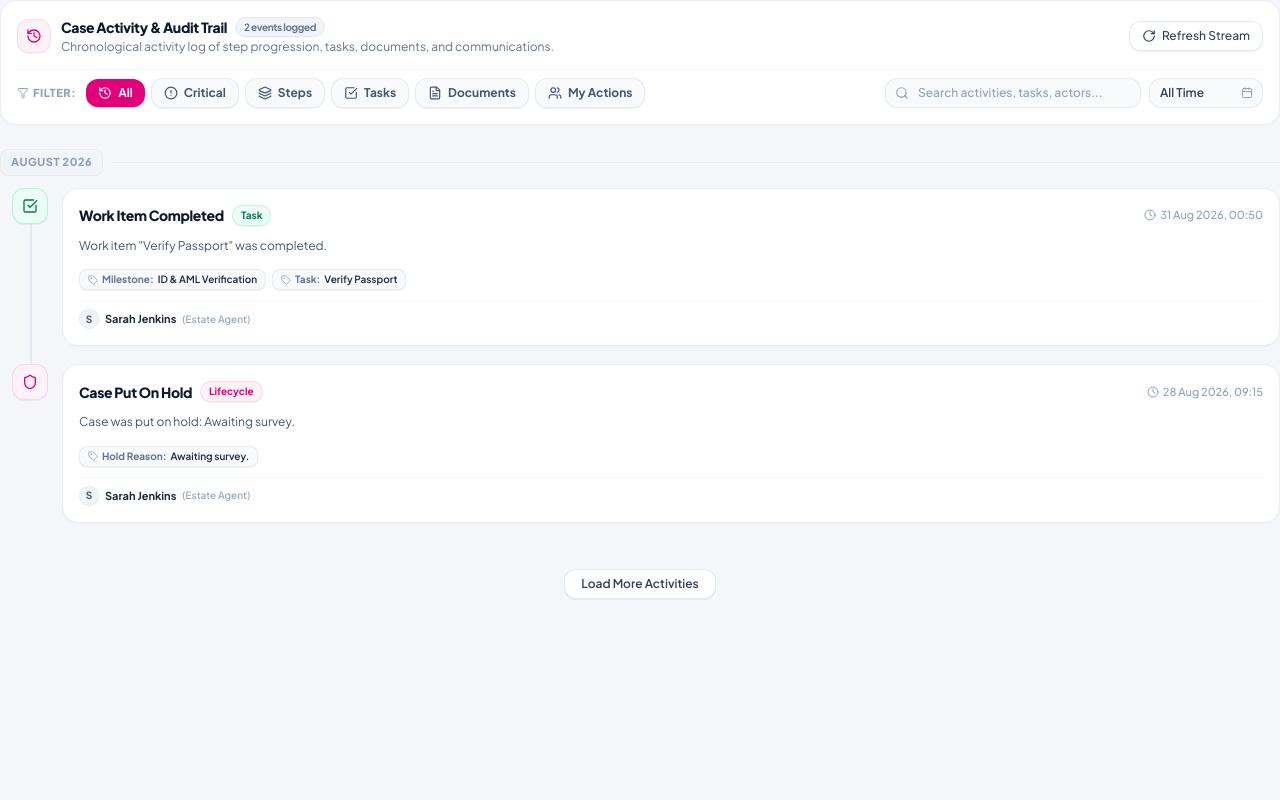
Test case: ActivityTimelineTab › loads more activities when clicking Load More button
Expected: the heading "Work Item Completed" is shown, x1=79 y1=205 x2=224 y2=225
Click the button "Load More Activities": (640,584) x1=564 y1=569 x2=716 y2=599
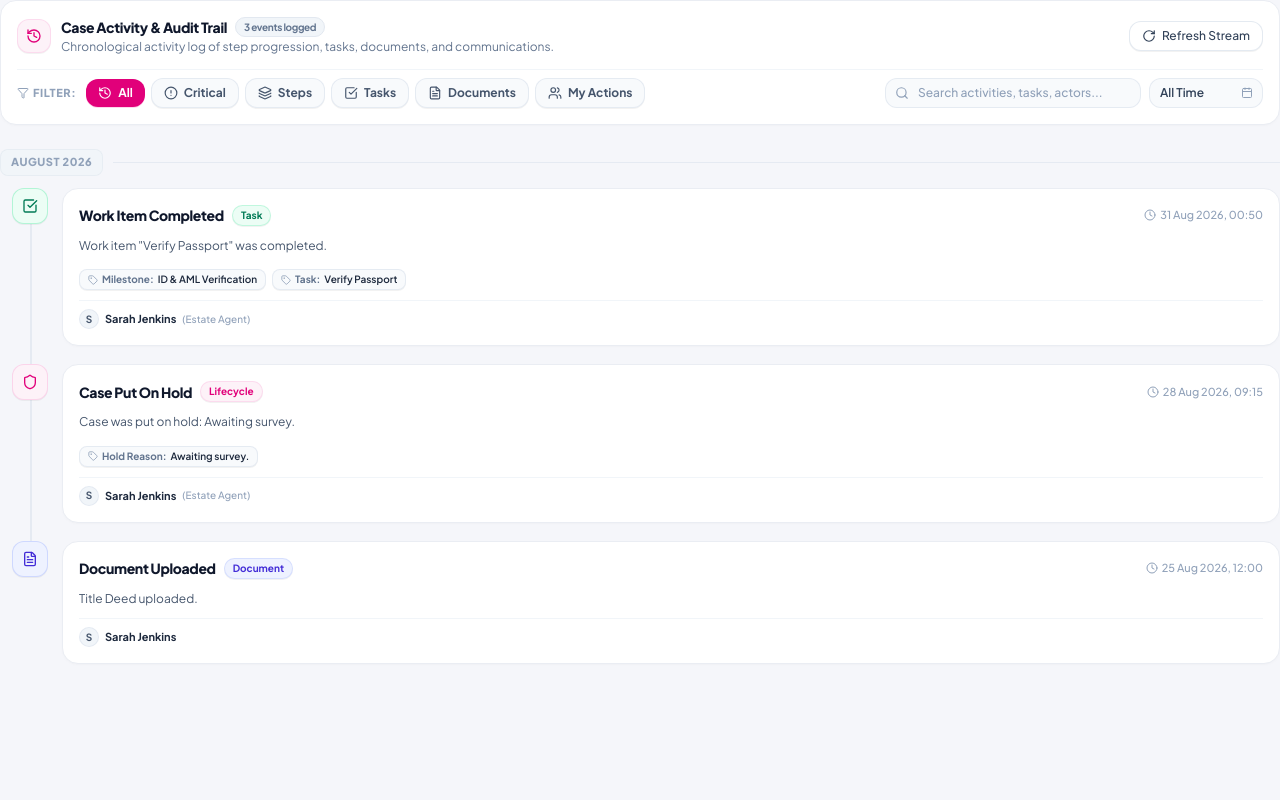
Now the heading "Document Uploaded" is shown, box x1=79 y1=558 x2=216 y2=578
